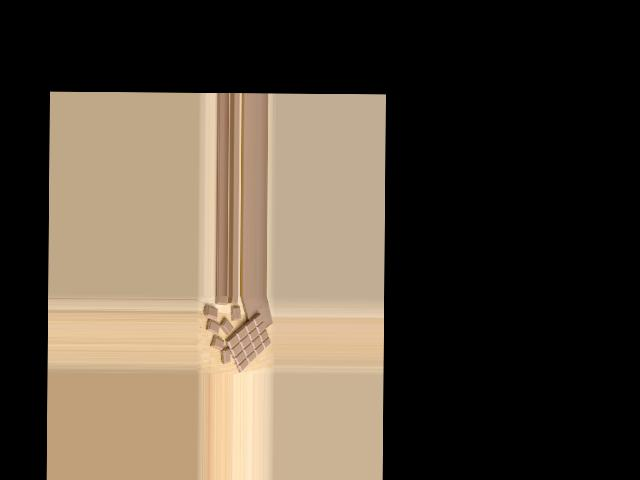chocolate: (223, 312, 271, 370)
